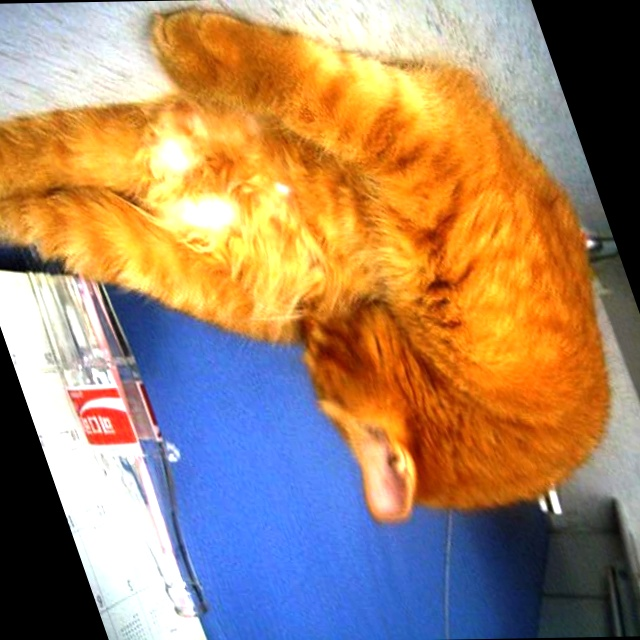hairloss: (132, 118, 237, 232)
